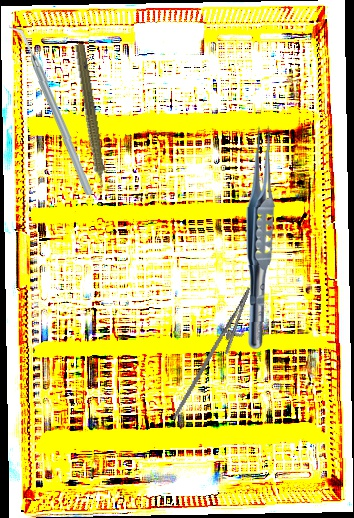Chopper: (6, 25, 96, 195)
Handpiece: (68, 42, 112, 201)
Needle Holder: (171, 279, 263, 432)
Tissue Forceps: (243, 121, 277, 351)
